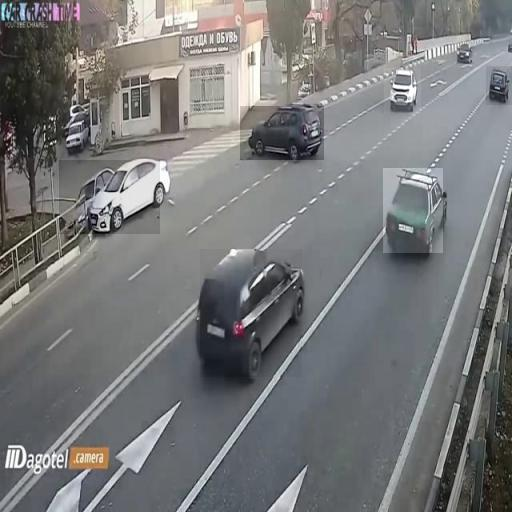小汽车: (200, 250, 302, 378), (383, 168, 443, 253), (240, 106, 324, 160), (384, 68, 421, 114), (59, 118, 89, 154), (486, 66, 512, 105), (452, 38, 474, 66)
小汽车撞小汽车: (59, 160, 160, 234)
